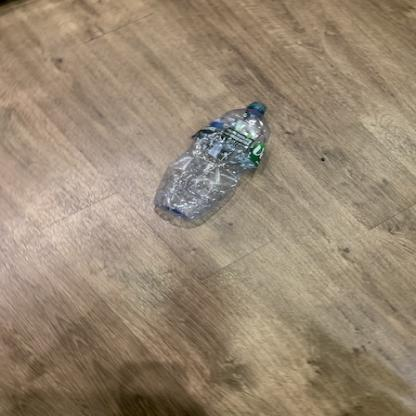trash: (155, 102, 275, 222)
